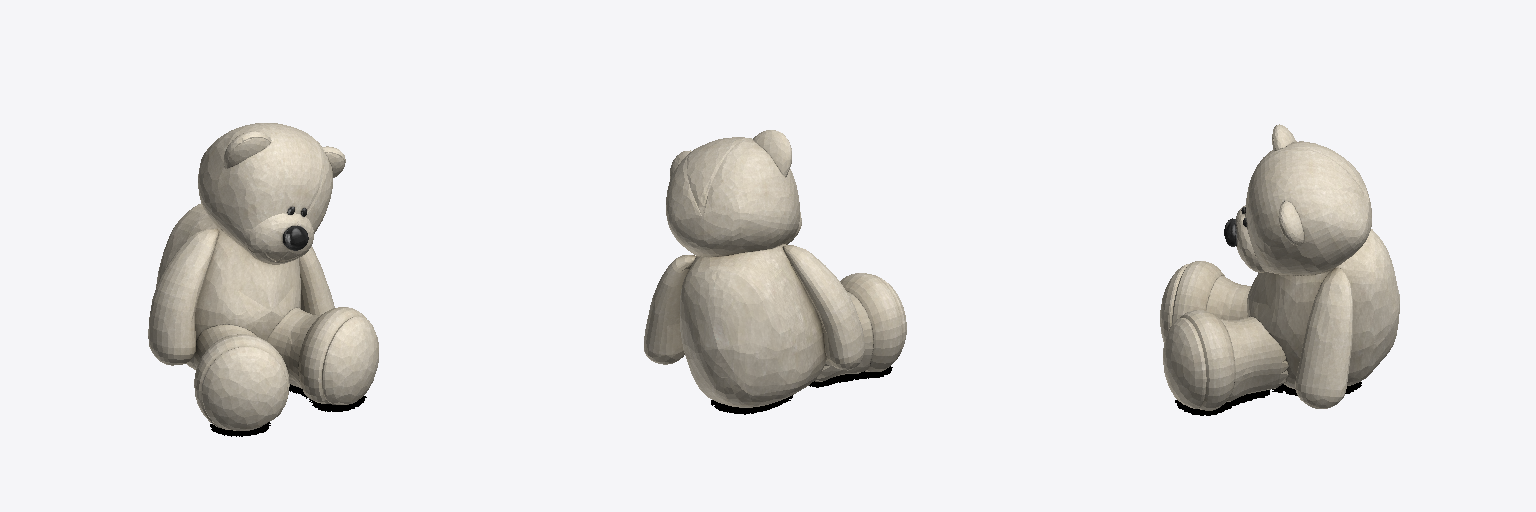
3 renders of one model, left to right at view 1: azimuth 30°, elevation 25°; view 2: azimuth 150°, elevation 25°; view 3: azimuth 270°, elevation 25°, orthographic.
Visible parts, largest first — view 1: solid_002, shadow, solid_001; view 2: solid_002, shadow; view 3: solid_002, shadow.
Part boxes in pixels (left/top/right/bottom): solid_002: left=148, top=123, right=378, bottom=430; shadow: left=210, top=384, right=366, bottom=436; solid_001: left=283, top=207, right=308, bottom=250; solid_002: left=644, top=130, right=906, bottom=407; shadow: left=711, top=366, right=892, bottom=414; solid_002: left=1160, top=124, right=1399, bottom=410; shadow: left=1175, top=382, right=1361, bottom=415.
Size of the model in its own units: 0.2032 by 0.2164 by 0.2143.
Materials: 1 (1 with a texture image).